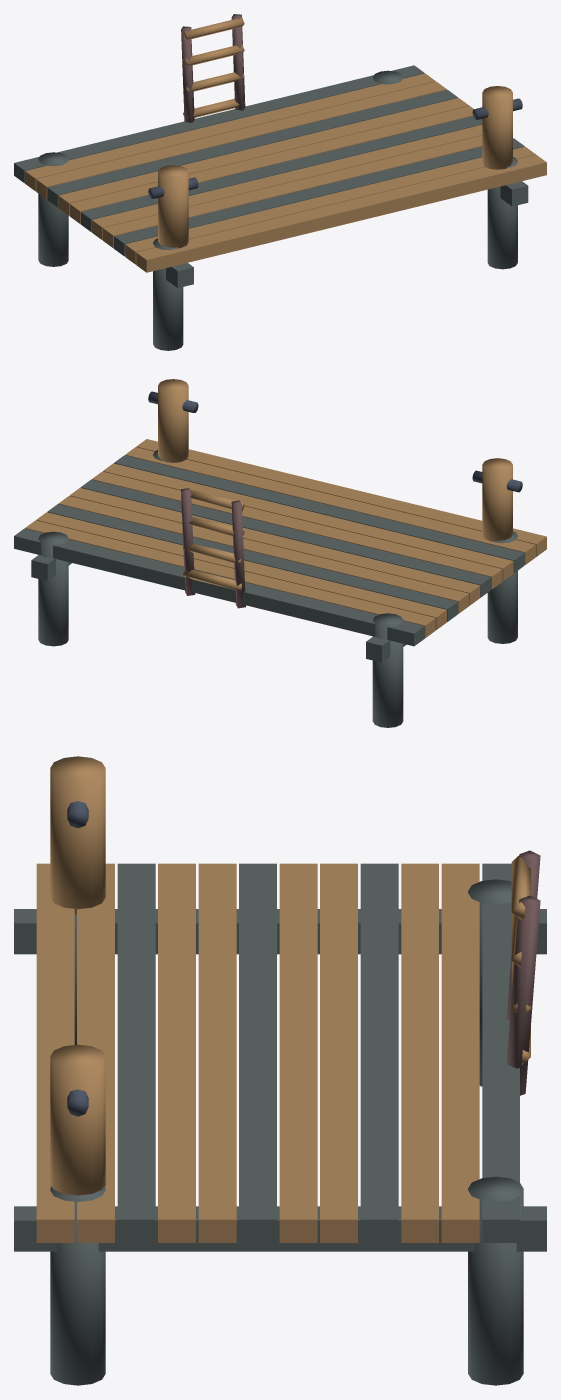
The model's file is jetty.glb.
3 views of the same model, one above another, from view 1: azimuth 30°, elevation 25°; view 2: azimuth 150°, elevation 25°; view 3: azimuth 270°, elevation 25° (orthographic). The views are drawn at different scales.
Visible parts, largest first — view 1: Jetty_deck_plank.011, Jetty_deck_plank.002, Jetty_deck_plank.003, Jetty_deck_plank.001, Jetty_deck_plank.004, Jetty_deck_plank.005, Jetty_deck_plank.007, Jetty_deck_plank.006, Jetty_deck_plank, Jetty_deck_plank.008, Jetty_deck_plank.009, Jetty_deck_plank.010 (+13 smaller); view 2: Jetty_deck_plank, Jetty_deck_plank.009, Jetty_deck_plank.008, Jetty_deck_plank.006, Jetty_deck_plank.004, Jetty_deck_plank.010, Jetty_deck_plank.001, Jetty_deck_plank.003, Jetty_deck_plank.002, Jetty_deck_plank.007, Jetty_deck_plank.005, Jetty_deck_plank.011 (+13 smaller); view 3: Jetty_deck_plank.003, Jetty_deck_plank.005, Jetty_deck_plank.007, Jetty_deck_plank.009, Jetty_deck_plank.001, Jetty_deck_plank.002, Jetty_deck_plank.004, Jetty_deck_plank.006, Jetty_deck_plank.008, Jetty_deck_plank, Jetty_deck_plank.011, Jetty_bed_pile.002 (+9 smaller).
Boxes of the visible parts, x1=… form: Jetty_deck_plank.011: x1=136, y1=155, x2=546, y2=272; Jetty_deck_plank.002: x1=36, y1=81, x2=446, y2=199; Jetty_deck_plank.003: x1=47, y1=89, x2=457, y2=207; Jetty_deck_plank.001: x1=25, y1=73, x2=435, y2=191; Jetty_deck_plank.004: x1=58, y1=98, x2=469, y2=215; Jetty_deck_plank.005: x1=69, y1=106, x2=473, y2=223; Jetty_deck_plank.007: x1=91, y1=125, x2=482, y2=240; Jetty_deck_plank.006: x1=80, y1=116, x2=482, y2=231; Jetty_deck_plank: x1=14, y1=65, x2=424, y2=183; Jetty_deck_plank.008: x1=103, y1=135, x2=513, y2=248; Jetty_deck_plank.009: x1=114, y1=138, x2=524, y2=256; Jetty_deck_plank.010: x1=125, y1=146, x2=535, y2=264; Jetty_deck_plank: x1=14, y1=528, x2=424, y2=646; Jetty_deck_plank.009: x1=114, y1=455, x2=524, y2=572; Jetty_deck_plank.008: x1=103, y1=463, x2=513, y2=580; Jetty_deck_plank.006: x1=80, y1=479, x2=491, y2=597; Jetty_deck_plank.004: x1=58, y1=496, x2=469, y2=613; Jetty_deck_plank.010: x1=125, y1=447, x2=535, y2=564; Jetty_deck_plank.001: x1=25, y1=520, x2=435, y2=638; Jetty_deck_plank.003: x1=47, y1=504, x2=457, y2=621; Jetty_deck_plank.002: x1=36, y1=512, x2=446, y2=629; Jetty_deck_plank.007: x1=91, y1=471, x2=502, y2=589; Jetty_deck_plank.005: x1=69, y1=488, x2=480, y2=605; Jetty_deck_plank.011: x1=136, y1=439, x2=546, y2=556; Jetty_deck_plank.003: x1=360, y1=863, x2=398, y2=1242; Jetty_deck_plank.005: x1=279, y1=863, x2=317, y2=1242; Jetty_deck_plank.007: x1=198, y1=863, x2=236, y2=1242; Jetty_deck_plank.009: x1=117, y1=863, x2=155, y2=1242; Jetty_deck_plank.001: x1=441, y1=863, x2=479, y2=1242; Jetty_deck_plank.002: x1=401, y1=863, x2=438, y2=1242; Jetty_deck_plank.004: x1=320, y1=863, x2=357, y2=1242; Jetty_deck_plank.006: x1=239, y1=863, x2=276, y2=1242; Jetty_deck_plank.008: x1=158, y1=863, x2=195, y2=1242; Jetty_deck_plank: x1=482, y1=863, x2=519, y2=1242; Jetty_deck_plank.011: x1=36, y1=863, x2=74, y2=1242; Jetty_bed_pile.002: x1=468, y1=1176, x2=523, y2=1385.
Bounding box in the file's own units: 3.95 × 1.8 × 2.5.
